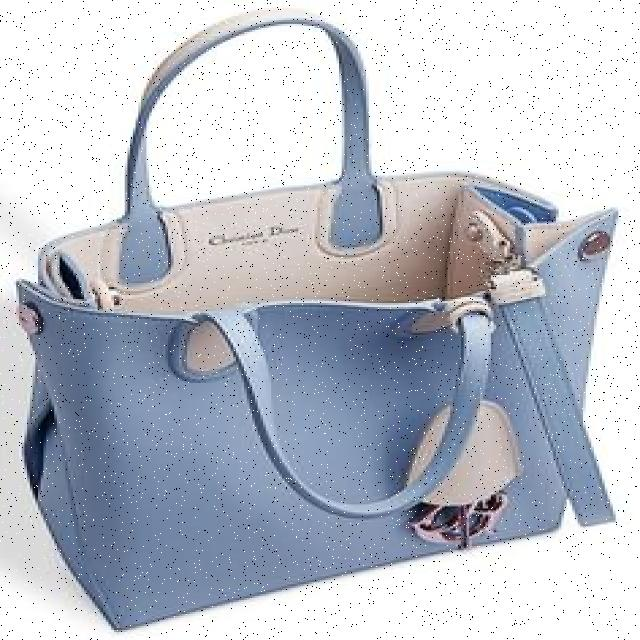handbag: (14, 6, 618, 630)
